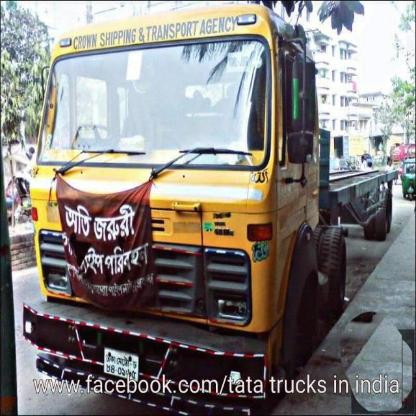truck: (28, 25, 393, 370)
